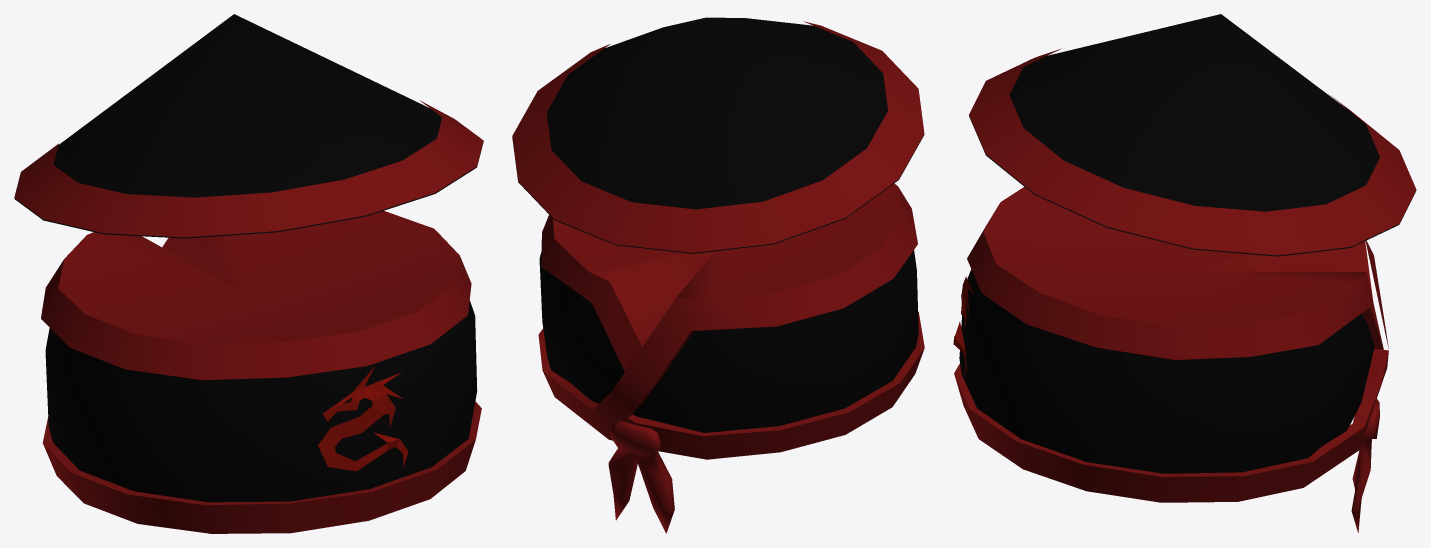
Rendered from hat_faction2.glb.
3 views of the same model, side by side, from view 1: azimuth 30°, elevation 25°; view 2: azimuth 150°, elevation 25°; view 3: azimuth 270°, elevation 25° (orthographic). The views are drawn at different scales.
Parts seen in each view (by area): view 1: hat_faction2; view 2: hat_faction2; view 3: hat_faction2.
Part boxes in pixels (x1,y1,x2,y2): hat_faction2: [14, 14, 483, 533]; hat_faction2: [512, 17, 924, 533]; hat_faction2: [953, 14, 1416, 532].
Size of the model in its own units: 0.6077 by 0.7457 by 0.6183.
